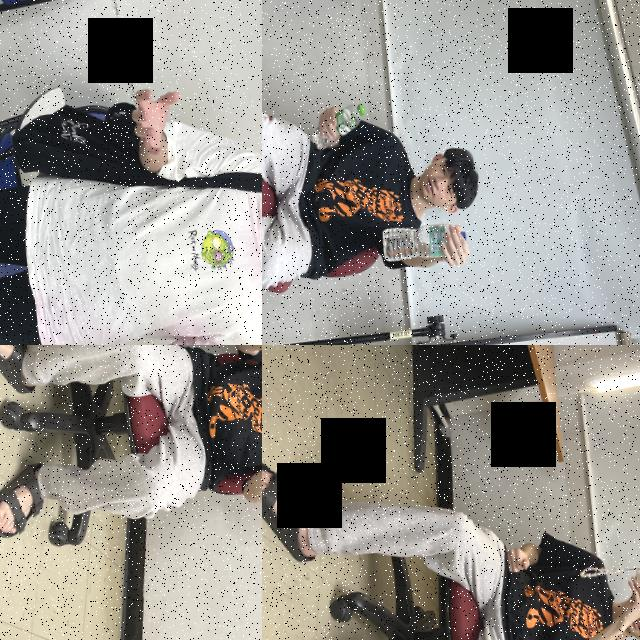bottle: (378, 218, 468, 264), (307, 102, 369, 152)
